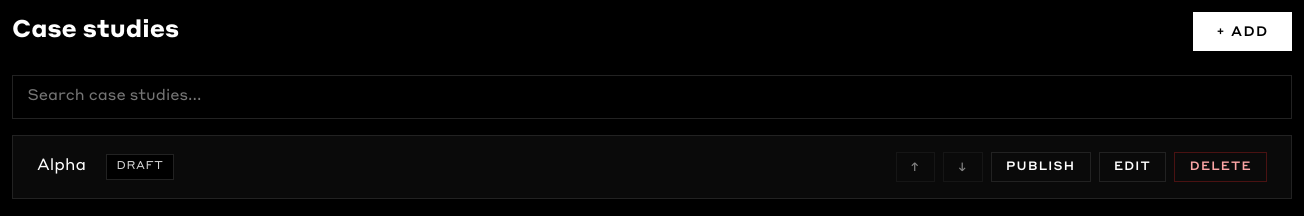
CollectionTab singular naming › leaves the plural list hints and the search label alone
Type "zzz" into the search field labelled "Search case studies..." at (652, 97), box [12,75,1292,119]
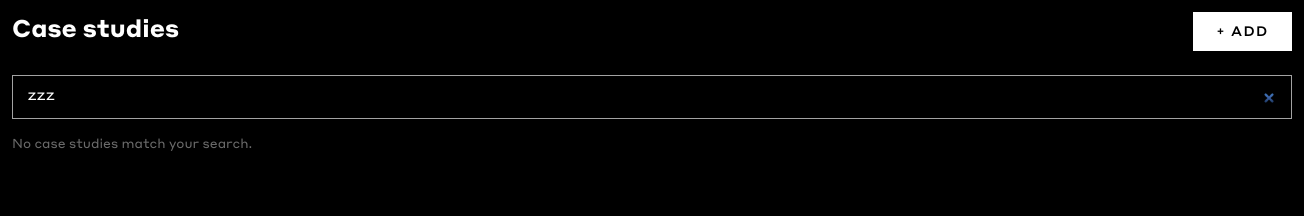
Expected: the text "No case studies match your search." is shown, [12,138,252,151]
